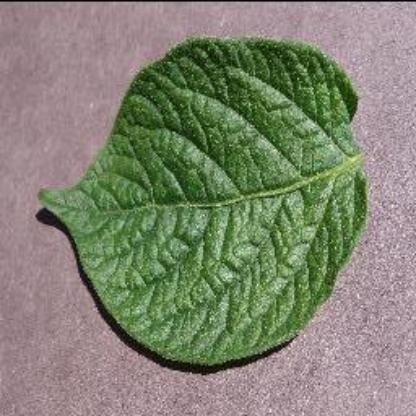Healthy-plant: (31, 25, 387, 375)
